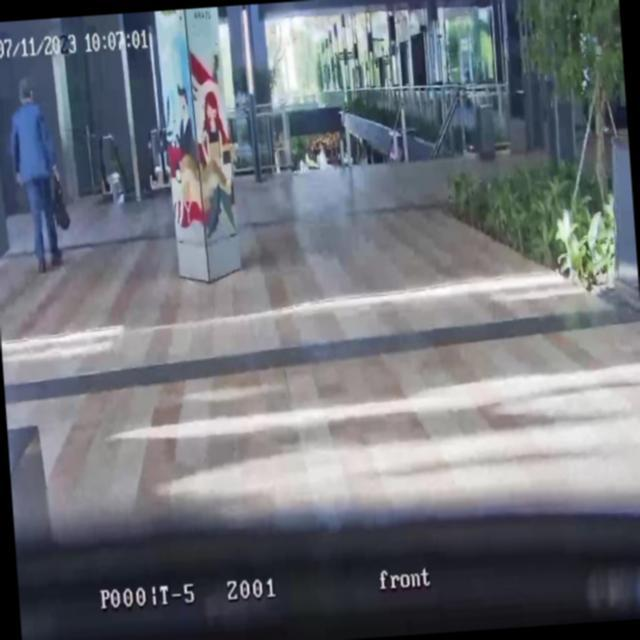person: (6, 72, 66, 275)
